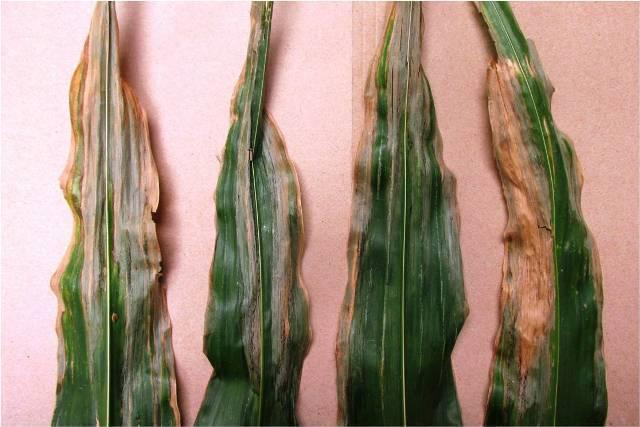Corn_Blight: (53, 1, 186, 418), (464, 58, 556, 419), (227, 93, 311, 412), (393, 6, 460, 291), (342, 4, 376, 373), (226, 3, 302, 83)
